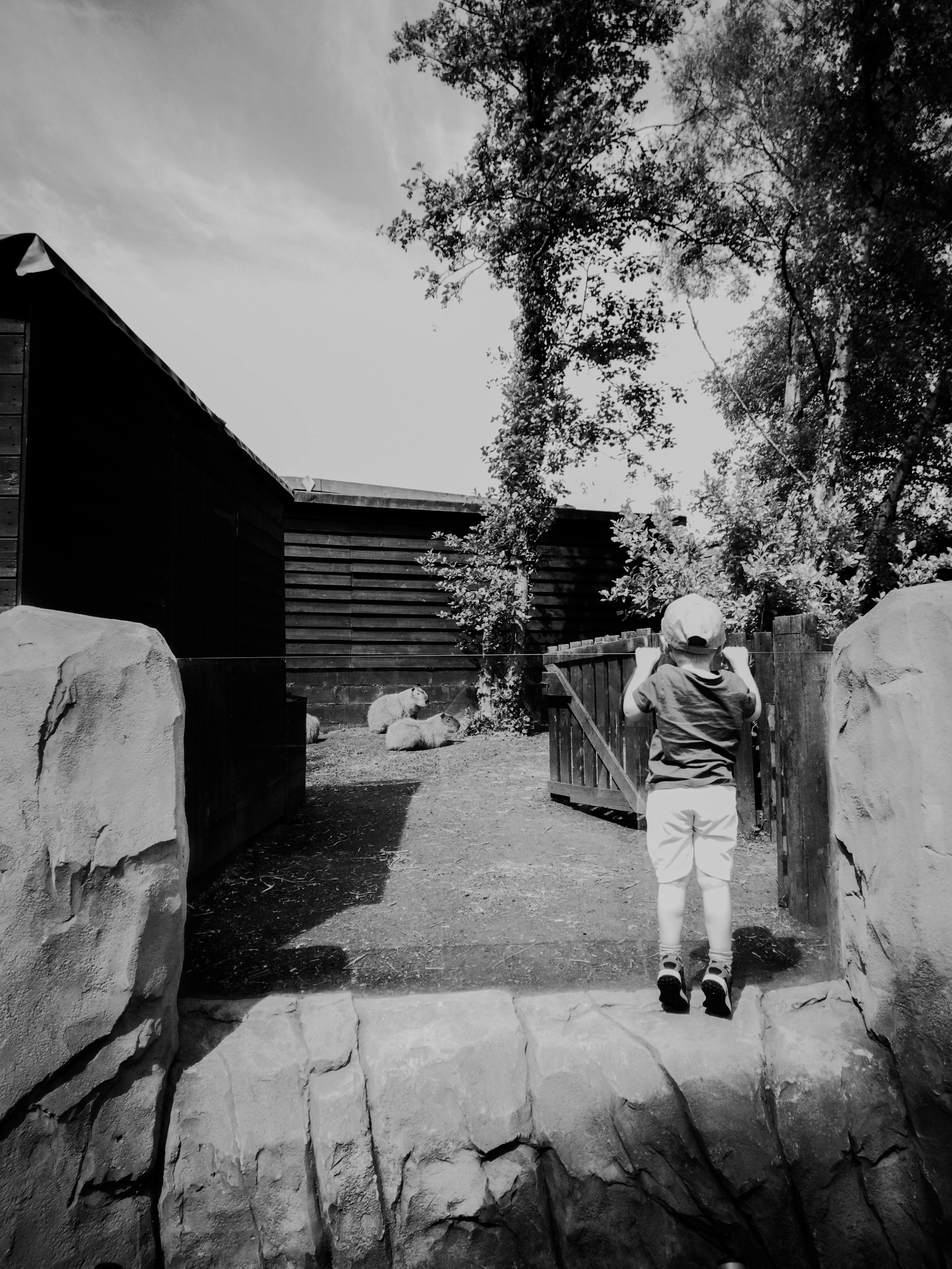Human: (615, 596, 762, 1019)
